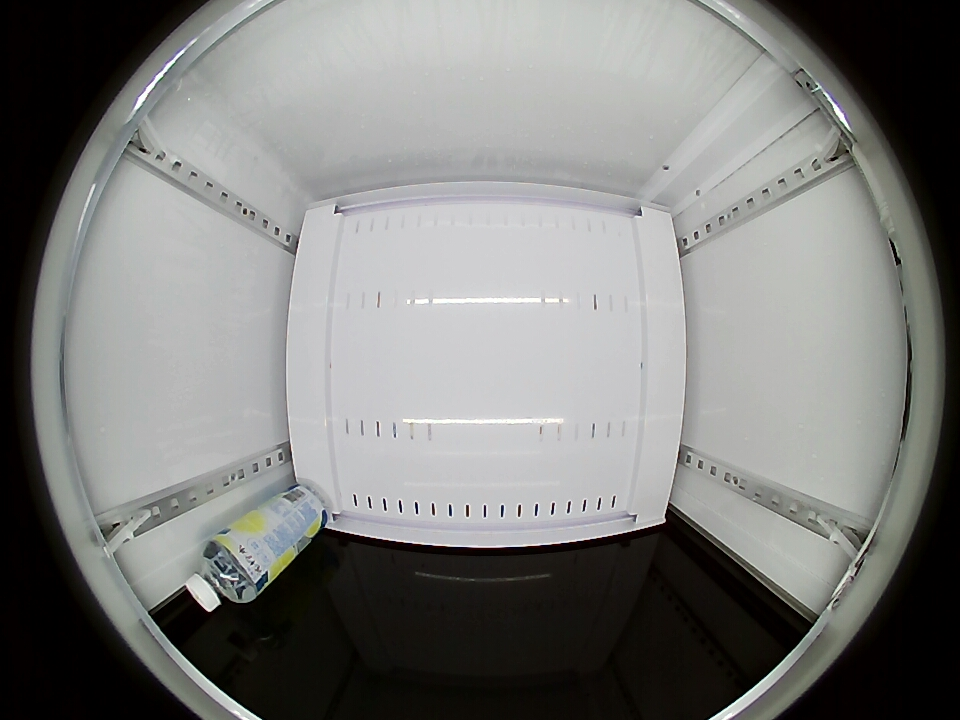qinningshui: (185, 536, 263, 613)
